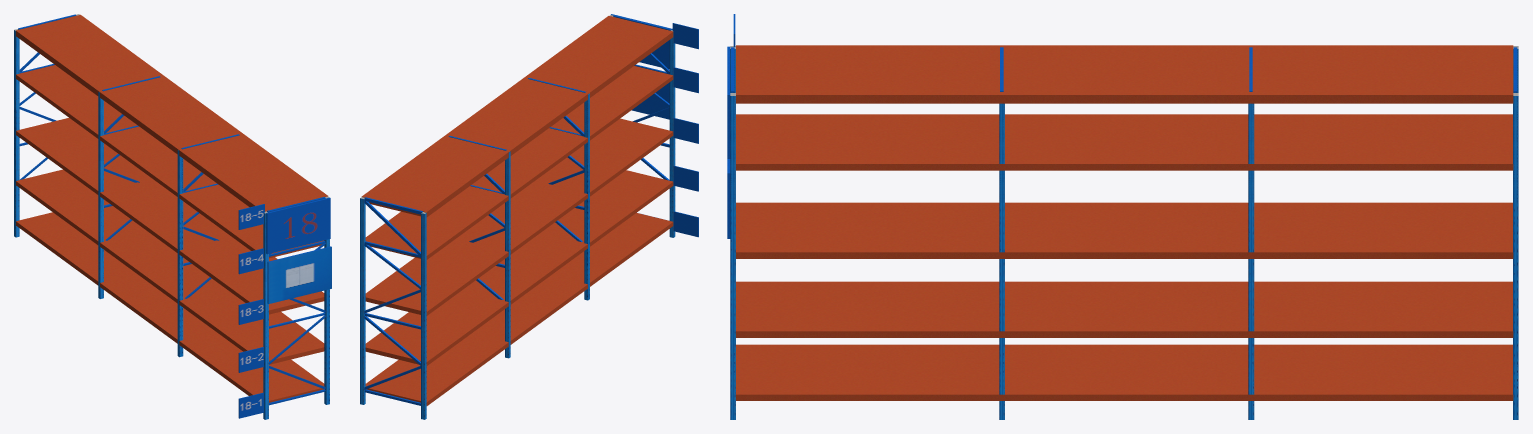
File: Shelf18.FBX
The picture shows the model from 3 angles, left to right: view 1: azimuth 30°, elevation 25°; view 2: azimuth 150°, elevation 25°; view 3: azimuth 270°, elevation 25°; orthographic projection. The views are drawn at different scales.
Visible parts, largest first — view 1: 图形453, 18-5-01, 18-5-03, 18-5-02, 18-2-01, 18-3-03, 18-3-02, 18-2-03, 18-1-01, 18-2-02, 18-3-01, 18-4-03 (+11 smaller); view 2: 图形453, 18-5-03, 18-5-01, 18-5-02, 18-3-03, 18-2-03, 18-3-01, 18-4-03, 18-3-02, 18-1-03, 18-2-01, 18-2-02 (+11 smaller); view 3: 18-5-01, 18-5-03, 18-4-01, 18-3-01, 18-1-01, 18-2-01, 18-2-03, 18-3-03, 18-4-03, 18-1-03, 18-5-02, 18-4-02 (+4 smaller).
Boxes of the visible parts, bbox=[...] form: 图形453: bbox=[14, 14, 329, 419]; 18-5-01: bbox=[179, 134, 327, 211]; 18-5-03: bbox=[16, 14, 162, 95]; 18-5-02: bbox=[98, 75, 242, 154]; 18-2-01: bbox=[179, 289, 324, 364]; 18-3-03: bbox=[16, 118, 150, 194]; 18-3-02: bbox=[100, 178, 231, 252]; 18-2-03: bbox=[16, 169, 145, 244]; 18-1-01: bbox=[179, 331, 324, 402]; 18-2-02: bbox=[100, 230, 225, 303]; 18-3-01: bbox=[179, 237, 324, 314]; 18-4-03: bbox=[16, 65, 136, 138]; 图形453: bbox=[360, 15, 675, 419]; 18-5-03: bbox=[361, 136, 508, 217]; 18-5-01: bbox=[525, 16, 673, 97]; 18-5-02: bbox=[444, 77, 589, 155]; 18-3-03: bbox=[365, 239, 508, 315]; 18-2-03: bbox=[365, 290, 508, 365]; 18-3-01: bbox=[536, 118, 673, 196]; 18-4-03: bbox=[365, 186, 508, 259]; 18-3-02: bbox=[456, 180, 587, 254]; 18-1-03: bbox=[365, 333, 508, 405]; 18-2-01: bbox=[542, 170, 673, 246]; 18-2-02: bbox=[462, 232, 587, 304]; 18-5-01: bbox=[736, 45, 1000, 103]; 18-5-03: bbox=[1254, 45, 1513, 103]; 18-4-01: bbox=[736, 114, 1000, 170]; 18-3-01: bbox=[736, 202, 1000, 258]; 18-1-01: bbox=[736, 344, 1000, 400]; 18-2-01: bbox=[736, 281, 1000, 337]; 18-2-03: bbox=[1254, 281, 1513, 337]; 18-3-03: bbox=[1254, 202, 1513, 258]; 18-4-03: bbox=[1254, 114, 1513, 170]; 18-1-03: bbox=[1254, 344, 1513, 400]; 18-5-02: bbox=[1001, 45, 1253, 103]; 18-4-02: bbox=[1001, 114, 1253, 170].
Size of the model in its own units: 1.13 by 5.45 by 2.56.
